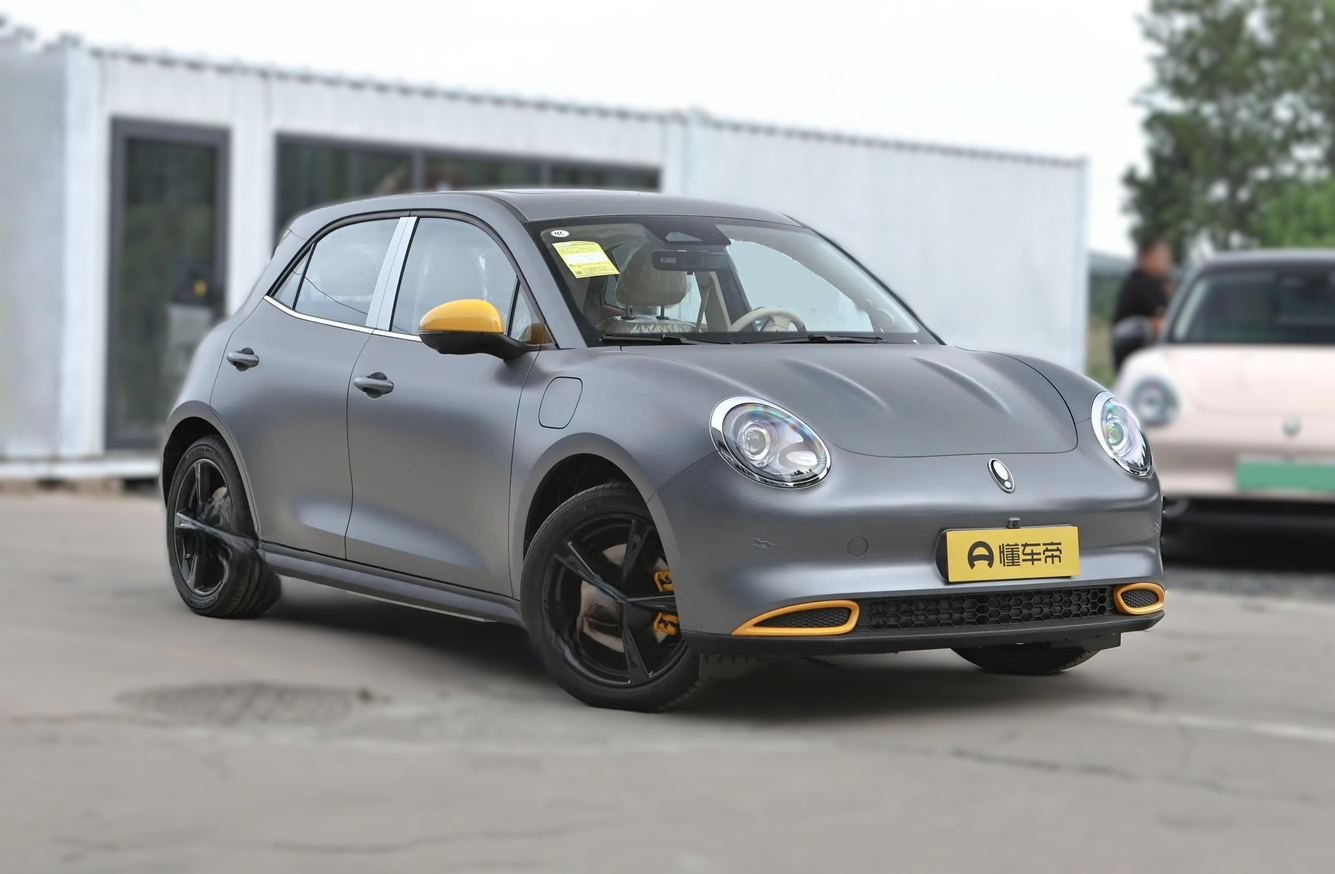ORA: (988, 459, 1014, 492)
